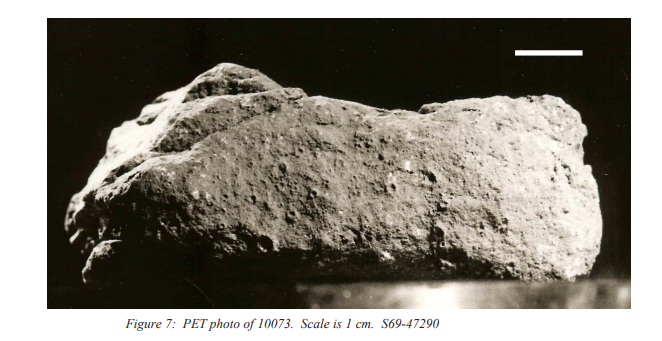Breccia: (70, 42, 588, 293)
